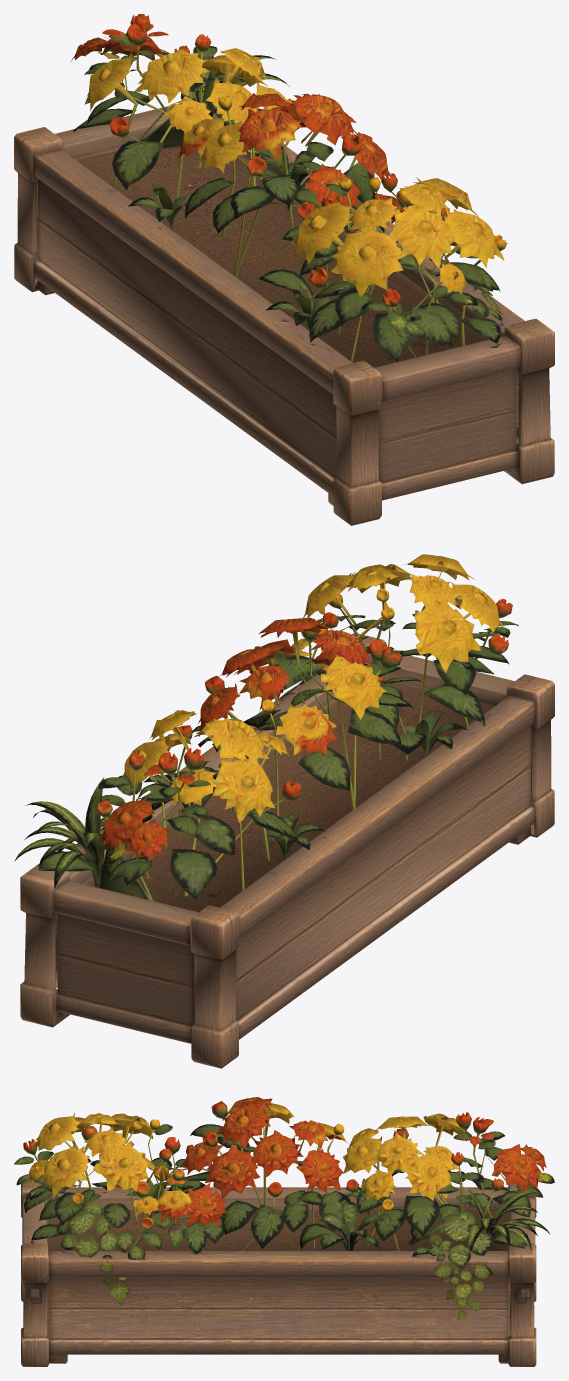
The model's file is planter_box.glb.
The picture shows the model from 3 angles, top to bottom: view 1: azimuth 30°, elevation 25°; view 2: azimuth 150°, elevation 25°; view 3: azimuth 270°, elevation 25°; orthographic projection. The views are drawn at different scales.
Parts seen in each view (by area): view 1: tripo_node_7abeb04d-ed97-4673-b987-0c27adc425fd; view 2: tripo_node_7abeb04d-ed97-4673-b987-0c27adc425fd; view 3: tripo_node_7abeb04d-ed97-4673-b987-0c27adc425fd.
Boxes of the visible parts, bbox=[...] form: tripo_node_7abeb04d-ed97-4673-b987-0c27adc425fd: bbox=[14, 14, 554, 525]; tripo_node_7abeb04d-ed97-4673-b987-0c27adc425fd: bbox=[14, 554, 554, 1068]; tripo_node_7abeb04d-ed97-4673-b987-0c27adc425fd: bbox=[14, 1097, 554, 1366].
Bounding box in the file's own units: 0.3833 × 0.4546 × 0.9995.
1 material, 1 textured.
